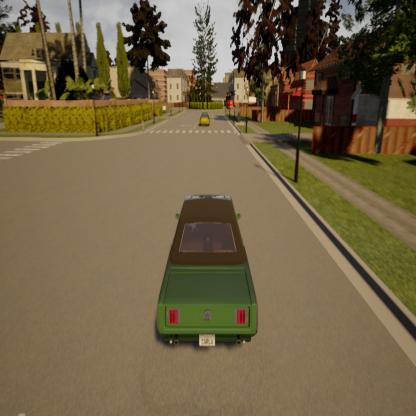Cars: (146, 189, 262, 361), (197, 109, 214, 129)
